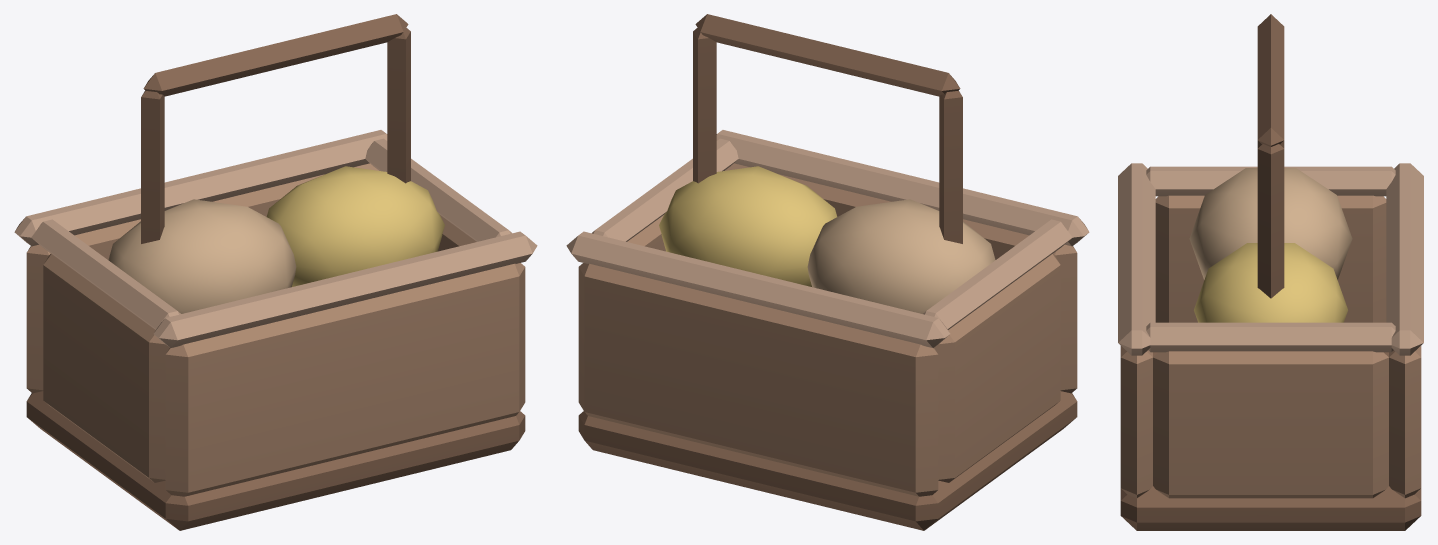
The model's file is prop-moka-basket.glb.
3 views of the same model, side by side, from view 1: azimuth 30°, elevation 25°; view 2: azimuth 150°, elevation 25°; view 3: azimuth 270°, elevation 25° (orthographic). The views are drawn at different scales.
Parts seen in each view (by area): view 1: prop-moka-basket; view 2: prop-moka-basket; view 3: prop-moka-basket.
Part boxes in pixels (x1,y1,x2,y2): prop-moka-basket: (14, 14, 537, 530); prop-moka-basket: (566, 14, 1089, 530); prop-moka-basket: (1118, 14, 1423, 530).
Size of the model in its own units: 0.4 by 0.4 by 0.29.
